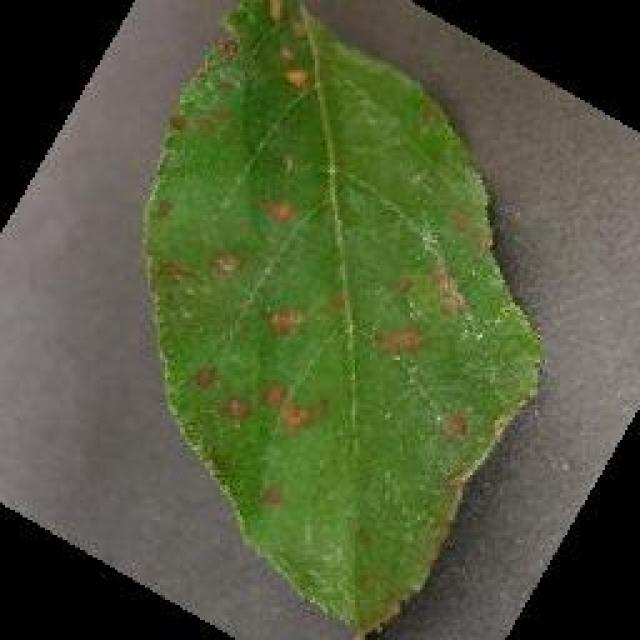Apple___Cedar_apple_rust: (141, 0, 551, 638)
